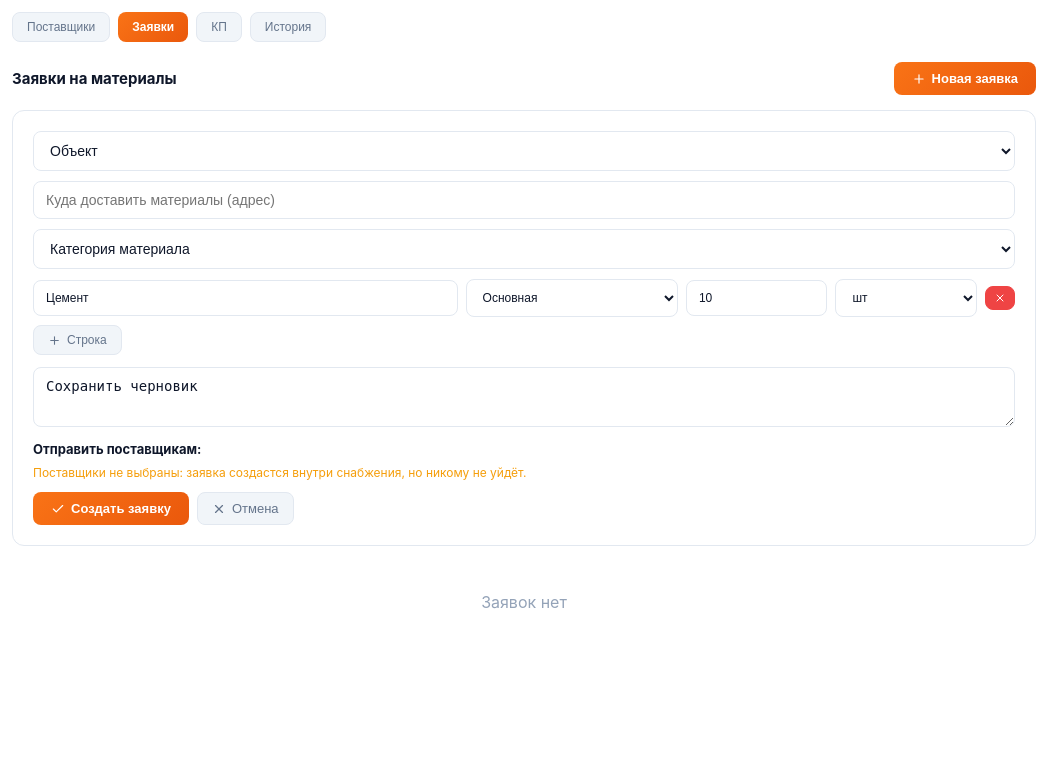
Test: SuppliersPage request submission › unknown failure asks to check existing requests before submitting again
Click the button "Создать заявку".
click(111, 508)  # box [33,492,189,525]
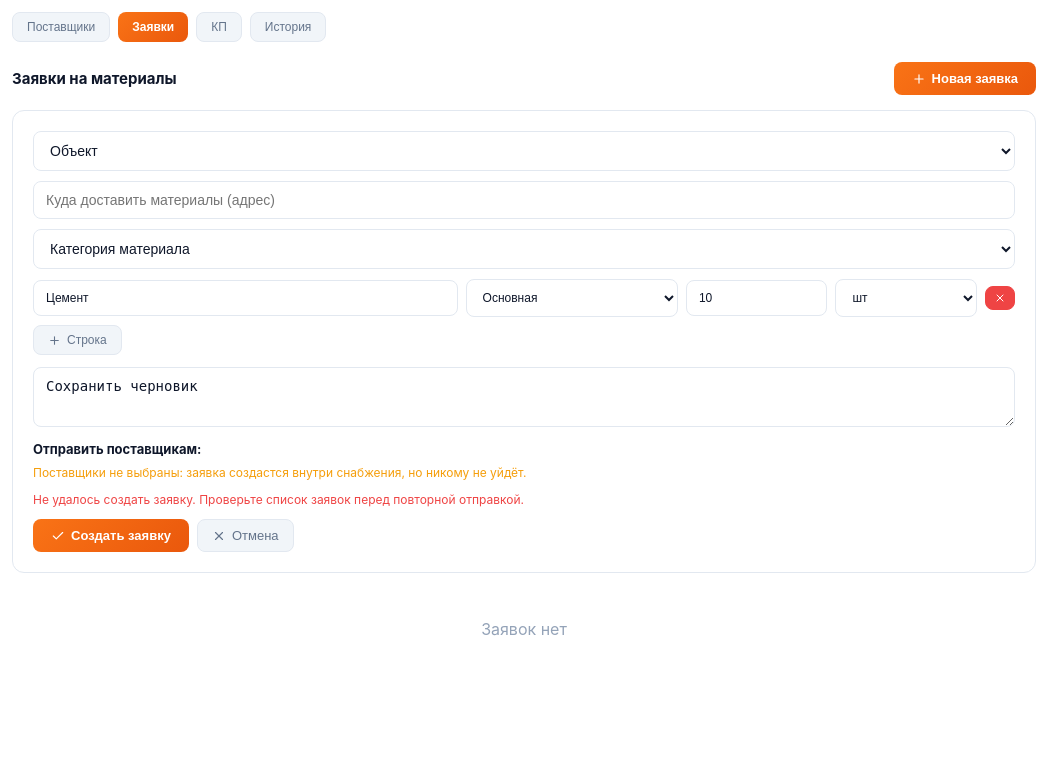
expect the message does not show "Попробуйте ещё раз": met, box [33,492,524,507]
expect the message shows "Проверьте список заявок перед повторной отправкой": met, box [33,492,524,507]
